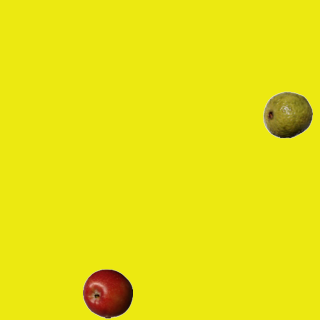Apple Braeburn: (82, 268, 132, 318)
Guava: (262, 89, 312, 139)
